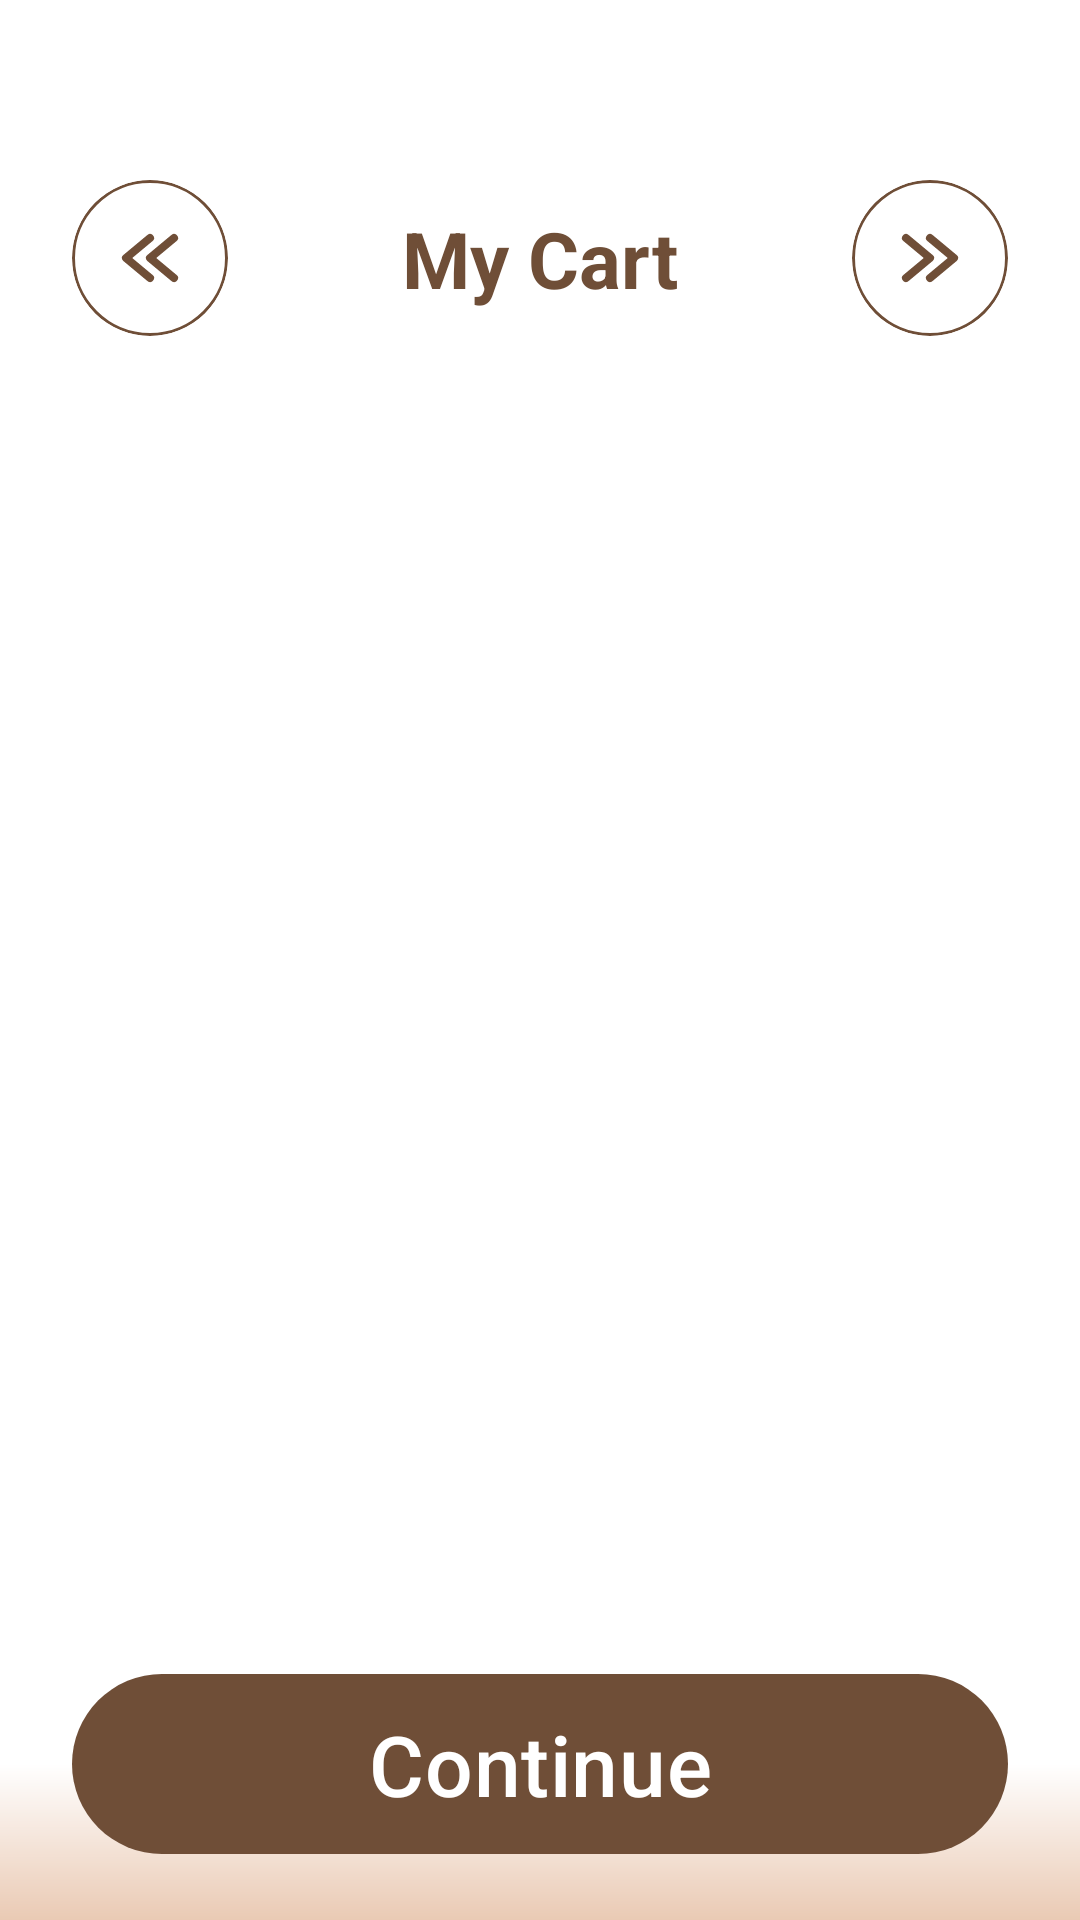

Point at icon controls on the screen. Image size 1080px x 1920px, points as (x=x, y=y).
back: (x=150, y=258)
forward: (x=930, y=258)
